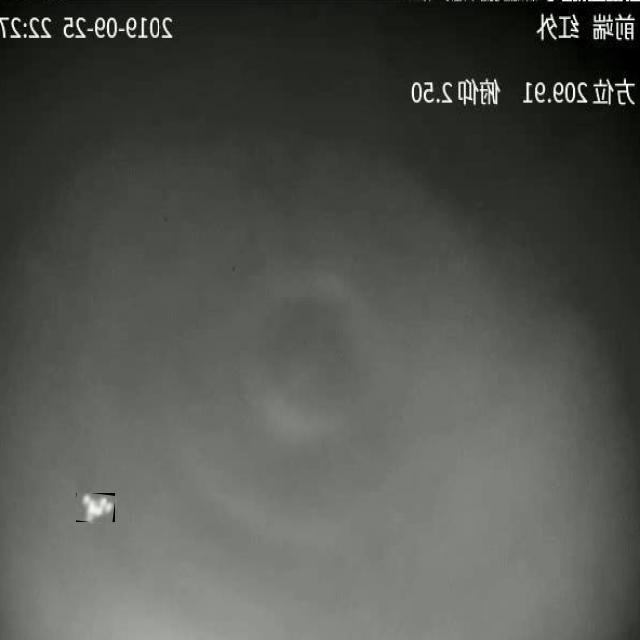drone: (76, 493, 115, 522)
